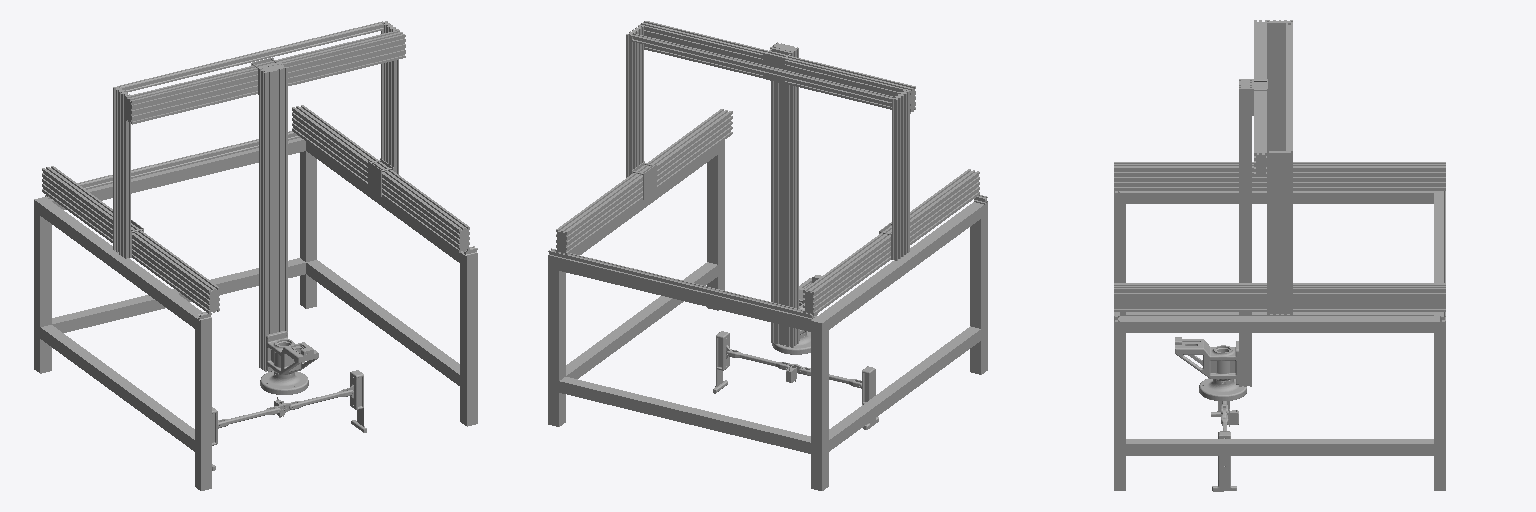
The robot description file, URDF, robot "robot":
<?xml version="1.0" ?>
<!-- =================================================================================== -->
<!-- |    This document was autogenerated by xacro from src/robot_description/urdf/robot.xacro | -->
<!-- |    EDITING THIS FILE BY HAND IS NOT RECOMMENDED                                 | -->
<!-- =================================================================================== -->
<robot name="robot">
  <material name="silver">
    <color rgba="0.700 0.700 0.700 1.000"/>
  </material>
  <link name="base_link">
    <inertial>
      <origin rpy="0 0 0" xyz="0.45768622613563736 -0.4368264195359295 0.4295018217497948"/>
      <mass value="50.148043530203196"/>
      <inertia ixx="9.348027" ixy="-0.003986" ixz="-0.001525" iyy="12.152888" iyz="0.272652" izz="16.634289"/>
    </inertial>
    <visual>
      <origin rpy="0 0 0" xyz="0 0 0"/>
      <geometry>
        <mesh filename="../meshes/base_link.stl" scale="0.001 0.001 0.001"/>
      </geometry>
      <material name="silver"/>
    </visual>
    <collision>
      <origin rpy="0 0 0" xyz="0 0 0"/>
      <geometry>
        <mesh filename="../meshes/base_link.stl" scale="0.001 0.001 0.001"/>
      </geometry>
    </collision>
  </link>
  <link name="x_link_1">
    <inertial>
      <origin rpy="0 0 0" xyz="0.42900000000000327 -0.07702054233668737 0.4385579778257891"/>
      <mass value="11.56938089491454"/>
      <inertia ixx="0.281385" ixy="-0.0" ixz="0.0" iyy="1.751721" iyz="0.033652" izz="1.497929"/>
    </inertial>
    <visual>
      <origin rpy="0 0 0" xyz="-0.0285 -0.0 -0.603"/>
      <geometry>
        <mesh filename="../meshes/x_link_1.stl" scale="0.001 0.001 0.001"/>
      </geometry>
      <material name="silver"/>
    </visual>
    <collision>
      <origin rpy="0 0 0" xyz="-0.0285 -0.0 -0.603"/>
      <geometry>
        <mesh filename="../meshes/x_link_1.stl" scale="0.001 0.001 0.001"/>
      </geometry>
    </collision>
  </link>
  <link name="y_link_1">
    <inertial>
      <origin rpy="0 0 0" xyz="0.04000698904160172 0.007766885164565626 0.04585403252661013"/>
      <mass value="0.5775307511653394"/>
      <inertia ixx="0.000621" ixy="-0.0" ixz="-0.0" iyy="0.000717" iyz="-6e-06" izz="0.000536"/>
    </inertial>
    <visual>
      <origin rpy="0 0 0" xyz="0.034 0.12 -1.081"/>
      <geometry>
        <mesh filename="../meshes/y_link_1.stl" scale="0.001 0.001 0.001"/>
      </geometry>
      <material name="silver"/>
    </visual>
    <collision>
      <origin rpy="0 0 0" xyz="0.034 0.12 -1.081"/>
      <geometry>
        <mesh filename="../meshes/y_link_1.stl" scale="0.001 0.001 0.001"/>
      </geometry>
    </collision>
  </link>
  <link name="z_link_1">
    <inertial>
      <origin rpy="0 0 0" xyz="-0.04012934689566563 -0.020235685434398354 -0.5125000000000013"/>
      <mass value="7.714149305438682"/>
      <inertia ixx="0.676312" ixy="-1.7e-05" ixz="-0.0" iyy="0.679153" iyz="0.0" izz="0.004686"/>
    </inertial>
    <visual>
      <origin rpy="0 0 0" xyz="-0.046 0.1275 -1.171"/>
      <geometry>
        <mesh filename="../meshes/z_link_1.stl" scale="0.001 0.001 0.001"/>
      </geometry>
      <material name="silver"/>
    </visual>
    <collision>
      <origin rpy="0 0 0" xyz="-0.046 0.1275 -1.171"/>
      <geometry>
        <mesh filename="../meshes/z_link_1.stl" scale="0.001 0.001 0.001"/>
      </geometry>
    </collision>
  </link>
  <link name="cabezal_1">
    <inertial>
      <origin rpy="0 0 0" xyz="1.2055562844962009e-05 -0.07470375860725395 0.07435169471155806"/>
      <mass value="0.735233698589477"/>
      <inertia ixx="0.002962" ixy="0.0" ixz="-0.0" iyy="0.001161" iyz="0.000677" izz="0.002526"/>
    </inertial>
    <visual>
      <origin rpy="0 0 0" xyz="-0.046 0.1675 -0.146"/>
      <geometry>
        <mesh filename="../meshes/cabezal_1.stl" scale="0.001 0.001 0.001"/>
      </geometry>
      <material name="silver"/>
    </visual>
    <collision>
      <origin rpy="0 0 0" xyz="-0.046 0.1675 -0.146"/>
      <geometry>
        <mesh filename="../meshes/cabezal_1.stl" scale="0.001 0.001 0.001"/>
      </geometry>
    </collision>
  </link>
  <link name="Externo1_v1_1">
    <inertial>
      <origin rpy="0 0 0" xyz="-1.1310397063368782e-15 1.6653345369377348e-16 -0.035297157702443877"/>
      <mass value="0.4348559362165023"/>
      <inertia ixx="0.000618" ixy="-0.0" ixz="0.0" iyy="0.000617" iyz="-0.0" izz="0.001131"/>
    </inertial>
    <visual>
      <origin rpy="0 0 0" xyz="-0.046 0.2175 -0.1605"/>
      <geometry>
        <mesh filename="../meshes/Externo1_v1_1.stl" scale="0.001 0.001 0.001"/>
      </geometry>
      <material name="silver"/>
    </visual>
    <collision>
      <origin rpy="0 0 0" xyz="-0.046 0.2175 -0.1605"/>
      <geometry>
        <mesh filename="../meshes/Externo1_v1_1.stl" scale="0.001 0.001 0.001"/>
      </geometry>
    </collision>
  </link>
  <link name="cabezal_2_0_v1_1_1">
    <inertial>
      <origin rpy="0 0 0" xyz="-1.9836844046515478e-05 0.00327884619901872 -0.050015068466438266"/>
      <mass value="0.808298897205994"/>
      <inertia ixx="0.002837" ixy="0.0" ixz="-1e-06" iyy="0.002812" iyz="8.5e-05" izz="0.001617"/>
    </inertial>
    <visual>
      <origin rpy="0 0 0" xyz="-0.046 0.2175 -0.111"/>
      <geometry>
        <mesh filename="../meshes/cabezal_2_0_v1_1_1.stl" scale="0.001 0.001 0.001"/>
      </geometry>
      <material name="silver"/>
    </visual>
    <collision>
      <origin rpy="0 0 0" xyz="-0.046 0.2175 -0.111"/>
      <geometry>
        <mesh filename="../meshes/cabezal_2_0_v1_1_1.stl" scale="0.001 0.001 0.001"/>
      </geometry>
    </collision>
  </link>
  <link name="mg996R_v2_v1_1_1">
    <inertial>
      <origin rpy="0 0 0" xyz="-0.005038686876243849 0.008828221063192837 0.024744332717065876"/>
      <mass value="0.24706045427040543"/>
      <inertia ixx="6.5e-05" ixy="0.0" ixz="-0.0" iyy="4.3e-05" iyz="0.0" izz="3.8e-05"/>
    </inertial>
    <visual>
      <origin rpy="0 0 0" xyz="-0.05091 0.196978 0.0045"/>
      <geometry>
        <mesh filename="../meshes/mg996R_v2_v1_1_1.stl" scale="0.001 0.001 0.001"/>
      </geometry>
      <material name="silver"/>
    </visual>
    <collision>
      <origin rpy="0 0 0" xyz="-0.05091 0.196978 0.0045"/>
      <geometry>
        <mesh filename="../meshes/mg996R_v2_v1_1_1.stl" scale="0.001 0.001 0.001"/>
      </geometry>
    </collision>
  </link>
  <link name="Servo_horn_v2_v1_1">
    <inertial>
      <origin rpy="0 0 0" xyz="1.3515116238912994e-05 -0.0031874939270762903 -1.5161483180037294e-15"/>
      <mass value="0.005099610361289279"/>
      <inertia ixx="1.253100175e-07" ixy="-5.047754088e-10" ixz="4.671074672e-16" iyy="2.404369626e-07" iyz="-7.092025118e-16" izz="1.253077337e-07"/>
    </inertial>
    <visual>
      <origin rpy="0 0 0" xyz="-0.045961 0.2085 -0.03"/>
      <geometry>
        <mesh filename="../meshes/Servo_horn_v2_v1_1.stl" scale="0.001 0.001 0.001"/>
      </geometry>
      <material name="silver"/>
    </visual>
    <collision>
      <origin rpy="0 0 0" xyz="-0.045961 0.2085 -0.03"/>
      <geometry>
        <mesh filename="../meshes/Servo_horn_v2_v1_1.stl" scale="0.001 0.001 0.001"/>
      </geometry>
    </collision>
  </link>
  <link name="Externo3_v1_1_1">
    <inertial>
      <origin rpy="0 0 0" xyz="5.512835039023223e-06 -0.0011958164319734732 -1.2455314557513475e-15"/>
      <mass value="0.07977197198617901"/>
      <inertia ixx="5e-06" ixy="-0.0" ixz="-0.0" iyy="3e-05" iyz="0.0" izz="2.6e-05"/>
    </inertial>
    <visual>
      <origin rpy="0 0 0" xyz="-0.04598 0.213 -0.03"/>
      <geometry>
        <mesh filename="../meshes/Externo3_v1_1_1.stl" scale="0.001 0.001 0.001"/>
      </geometry>
      <material name="silver"/>
    </visual>
    <collision>
      <origin rpy="0 0 0" xyz="-0.04598 0.213 -0.03"/>
      <geometry>
        <mesh filename="../meshes/Externo3_v1_1_1.stl" scale="0.001 0.001 0.001"/>
      </geometry>
    </collision>
  </link>
  <link name="Paleta_1_1">
    <inertial>
      <origin rpy="0 0 0" xyz="-0.1070194860087463 0.004431382652601179 2.2922718924400787e-08"/>
      <mass value="0.05350927460261899"/>
      <inertia ixx="3e-06" ixy="-1e-06" ixz="0.0" iyy="0.000258" iyz="0.0" izz="0.000259"/>
    </inertial>
    <visual>
      <origin rpy="0 0 0" xyz="-0.021002 0.21811 -0.03"/>
      <geometry>
        <mesh filename="../meshes/Paleta_1_1.stl" scale="0.001 0.001 0.001"/>
      </geometry>
      <material name="silver"/>
    </visual>
    <collision>
      <origin rpy="0 0 0" xyz="-0.021002 0.21811 -0.03"/>
      <geometry>
        <mesh filename="../meshes/Paleta_1_1.stl" scale="0.001 0.001 0.001"/>
      </geometry>
    </collision>
  </link>
  <link name="Paleta_2_1">
    <inertial>
      <origin rpy="0 0 0" xyz="0.10697797649072537 0.005368877291746704 2.292271928522327e-08"/>
      <mass value="0.05350927460261899"/>
      <inertia ixx="3e-06" ixy="-1e-06" ixz="0.0" iyy="0.000258" iyz="0.0" izz="0.000259"/>
    </inertial>
    <visual>
      <origin rpy="0 0 0" xyz="-0.071002 0.21789 -0.03"/>
      <geometry>
        <mesh filename="../meshes/Paleta_2_1.stl" scale="0.001 0.001 0.001"/>
      </geometry>
      <material name="silver"/>
    </visual>
    <collision>
      <origin rpy="0 0 0" xyz="-0.071002 0.21789 -0.03"/>
      <geometry>
        <mesh filename="../meshes/Paleta_2_1.stl" scale="0.001 0.001 0.001"/>
      </geometry>
    </collision>
  </link>
  <link name="Pala_IZQ_1">
    <inertial>
      <origin rpy="0 0 0" xyz="-0.02679441920888964 0.003882677544928881 -0.019023121817095687"/>
      <mass value="0.1680843406216635"/>
      <inertia ixx="0.000494" ixy="0.0" ixz="-2.9e-05" iyy="0.000488" iyz="-0.0" izz="4.1e-05"/>
    </inertial>
    <visual>
      <origin rpy="0 0 0" xyz="0.192996 0.219048 -0.03"/>
      <geometry>
        <mesh filename="../meshes/Pala_IZQ_1.stl" scale="0.001 0.001 0.001"/>
      </geometry>
      <material name="silver"/>
    </visual>
    <collision>
      <origin rpy="0 0 0" xyz="0.192996 0.219048 -0.03"/>
      <geometry>
        <mesh filename="../meshes/Pala_IZQ_1.stl" scale="0.001 0.001 0.001"/>
      </geometry>
    </collision>
  </link>
  <link name="Pala_DER_1">
    <inertial>
      <origin rpy="0 0 0" xyz="0.02675972806314808 0.004117255172863543 -0.019023121817094694"/>
      <mass value="0.1680843406216635"/>
      <inertia ixx="0.000494" ixy="0.0" ixz="2.9e-05" iyy="0.000488" iyz="0.0" izz="4.1e-05"/>
    </inertial>
    <visual>
      <origin rpy="0 0 0" xyz="-0.285 0.216952 -0.03"/>
      <geometry>
        <mesh filename="../meshes/Pala_DER_1.stl" scale="0.001 0.001 0.001"/>
      </geometry>
      <material name="silver"/>
    </visual>
    <collision>
      <origin rpy="0 0 0" xyz="-0.285 0.216952 -0.03"/>
      <geometry>
        <mesh filename="../meshes/Pala_DER_1.stl" scale="0.001 0.001 0.001"/>
      </geometry>
    </collision>
  </link>
  <joint name="x_joint" type="prismatic">
    <origin rpy="0 0 0" xyz="0.0285 0.0 0.603"/>
    <parent link="base_link"/>
    <child link="x_link_1"/>
    <axis xyz="0.0 -1.0 0.0"/>
    <limit effort="10000" lower="0.02" upper="0.94" velocity="1000"/>
  </joint>
  <joint name="y_joint" type="prismatic">
    <origin rpy="0 0 0" xyz="-0.0625 -0.12 0.478"/>
    <parent link="x_link_1"/>
    <child link="y_link_1"/>
    <axis xyz="1.0 -0.0 -0.0"/>
    <limit effort="10000" lower="0.065" upper="0.838" velocity="1000"/>
  </joint>
  <joint name="z_joint" type="prismatic">
    <origin rpy="0 0 0" xyz="0.08 -0.0075 0.09"/>
    <parent link="y_link_1"/>
    <child link="z_link_1"/>
    <axis xyz="-0.0 -0.0 -1.0"/>
    <limit effort="10000" lower="-0.93" upper="0" velocity="1000"/>
  </joint>
  <joint name="Rig_1" type="fixed">
    <origin rpy="0 0 0" xyz="-0.04 -0.04 -1.025"/>
    <parent link="z_link_1"/>
    <child link="cabezal_1"/>
  </joint>
  <joint name="R_joint" type="continuous">
    <origin rpy="0 0 0" xyz="0.0 -0.05 0.0145"/>
    <parent link="cabezal_1"/>
    <child link="Externo1_v1_1"/>
    <axis xyz="-0.0 -0.0 -1.0"/>
  </joint>
  <joint name="Rig_2" type="fixed">
    <origin rpy="0 0 0" xyz="0.0 0.0 -0.0495"/>
    <parent link="Externo1_v1_1"/>
    <child link="cabezal_2_0_v1_1_1"/>
  </joint>
  <joint name="Rig_3" type="fixed">
    <origin rpy="0 0 0" xyz="0.00491 0.020522 -0.1155"/>
    <parent link="cabezal_2_0_v1_1_1"/>
    <child link="mg996R_v2_v1_1_1"/>
  </joint>
  <joint name="Rig_4" type="fixed">
    <origin rpy="0 0 0" xyz="-0.004949 -0.011522 0.0345"/>
    <parent link="mg996R_v2_v1_1_1"/>
    <child link="Servo_horn_v2_v1_1"/>
  </joint>
  <joint name="Rig_5" type="fixed">
    <origin rpy="0 0 0" xyz="1.9e-05 -0.0045 0.0"/>
    <parent link="Servo_horn_v2_v1_1"/>
    <child link="Externo3_v1_1_1"/>
  </joint>
  <joint name="Grid_IZQ" type="prismatic">
    <origin rpy="0 0 0" xyz="-0.024978 -0.00511 0.0"/>
    <parent link="Externo3_v1_1_1"/>
    <child link="Paleta_1_1"/>
    <axis xyz="-0.99999 -0.004384 0.0"/>
    <mimic joint="Grid_DER" multiplier="-1" offset="0"/>
    <limit effort="100" lower="-0.040" upper="0.0" velocity="100"/>
  </joint>
  <joint name="Grid_DER" type="prismatic">
    <origin rpy="0 0 0" xyz="0.025022 -0.00489 0.0"/>
    <parent link="Externo3_v1_1_1"/>
    <child link="Paleta_2_1"/>
    <axis xyz="-0.99999 -0.004384 0.0"/>
    <limit effort="100" lower="0.0" upper="0.04" velocity="100"/>
  </joint>
  <joint name="Rig_6" type="fixed">
    <origin rpy="0 0 0" xyz="-0.213998 -0.000938 0.0"/>
    <parent link="Paleta_1_1"/>
    <child link="Pala_IZQ_1"/>
  </joint>
  <joint name="Rig_7" type="fixed">
    <origin rpy="0 0 0" xyz="0.213998 0.000938 0.0"/>
    <parent link="Paleta_2_1"/>
    <child link="Pala_DER_1"/>
  </joint>
</robot>

--- What the picture shows (computed from the rendered views, not written in the file) ---
3 views of the same robot in one strip: view 1: azimuth 30°, elevation 25°; view 2: azimuth 150°, elevation 25°; view 3: azimuth 270°, elevation 25° (orthographic).
Robot: robot — 14 links, 13 joints (1 continuous, 5 prismatic, 7 fixed); root link base_link; default pose: joints at zero except 2 at the middle of their limits (x_joint = 0.48, y_joint = 0.4515).
Links seen in each view (by area): view 1: base_link, x_link_1, z_link_1, cabezal_1, Externo1_v1_1, Pala_DER_1; view 2: base_link, x_link_1, z_link_1, Pala_DER_1, Pala_IZQ_1; view 3: base_link, x_link_1, z_link_1, cabezal_1, Externo1_v1_1, Pala_DER_1.
Boxes of the visible links, box(x1,y1,x2,y2) form: base_link: box(34, 105, 477, 490); x_link_1: box(113, 21, 405, 258); z_link_1: box(259, 63, 287, 371); cabezal_1: box(266, 331, 318, 374); Externo1_v1_1: box(260, 371, 308, 394); Pala_DER_1: box(347, 370, 366, 432); base_link: box(548, 109, 987, 490); x_link_1: box(626, 21, 915, 260); z_link_1: box(771, 42, 798, 347); Pala_DER_1: box(713, 331, 732, 393); Pala_IZQ_1: box(860, 366, 878, 429); base_link: box(1114, 162, 1445, 490); x_link_1: box(1254, 20, 1292, 314); z_link_1: box(1239, 79, 1251, 386); cabezal_1: box(1175, 337, 1238, 384); Externo1_v1_1: box(1199, 378, 1246, 400); Pala_DER_1: box(1212, 431, 1236, 491).
Size in the robot's own frame: 0.995 by 1.04 by 1.27 metres.
13 mesh visuals loaded from 14 distinct referenced files (13 binary STL); not drawn: 1 (reference not matched to a file when rendering).
